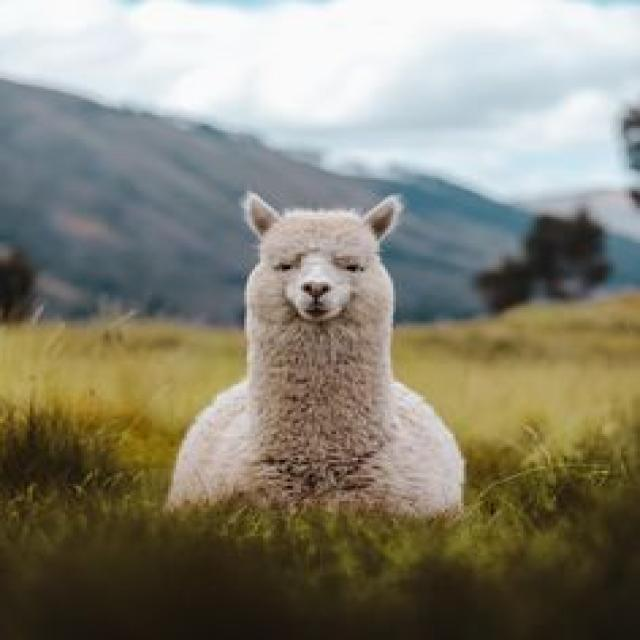Herbivorous: (165, 191, 466, 521)
